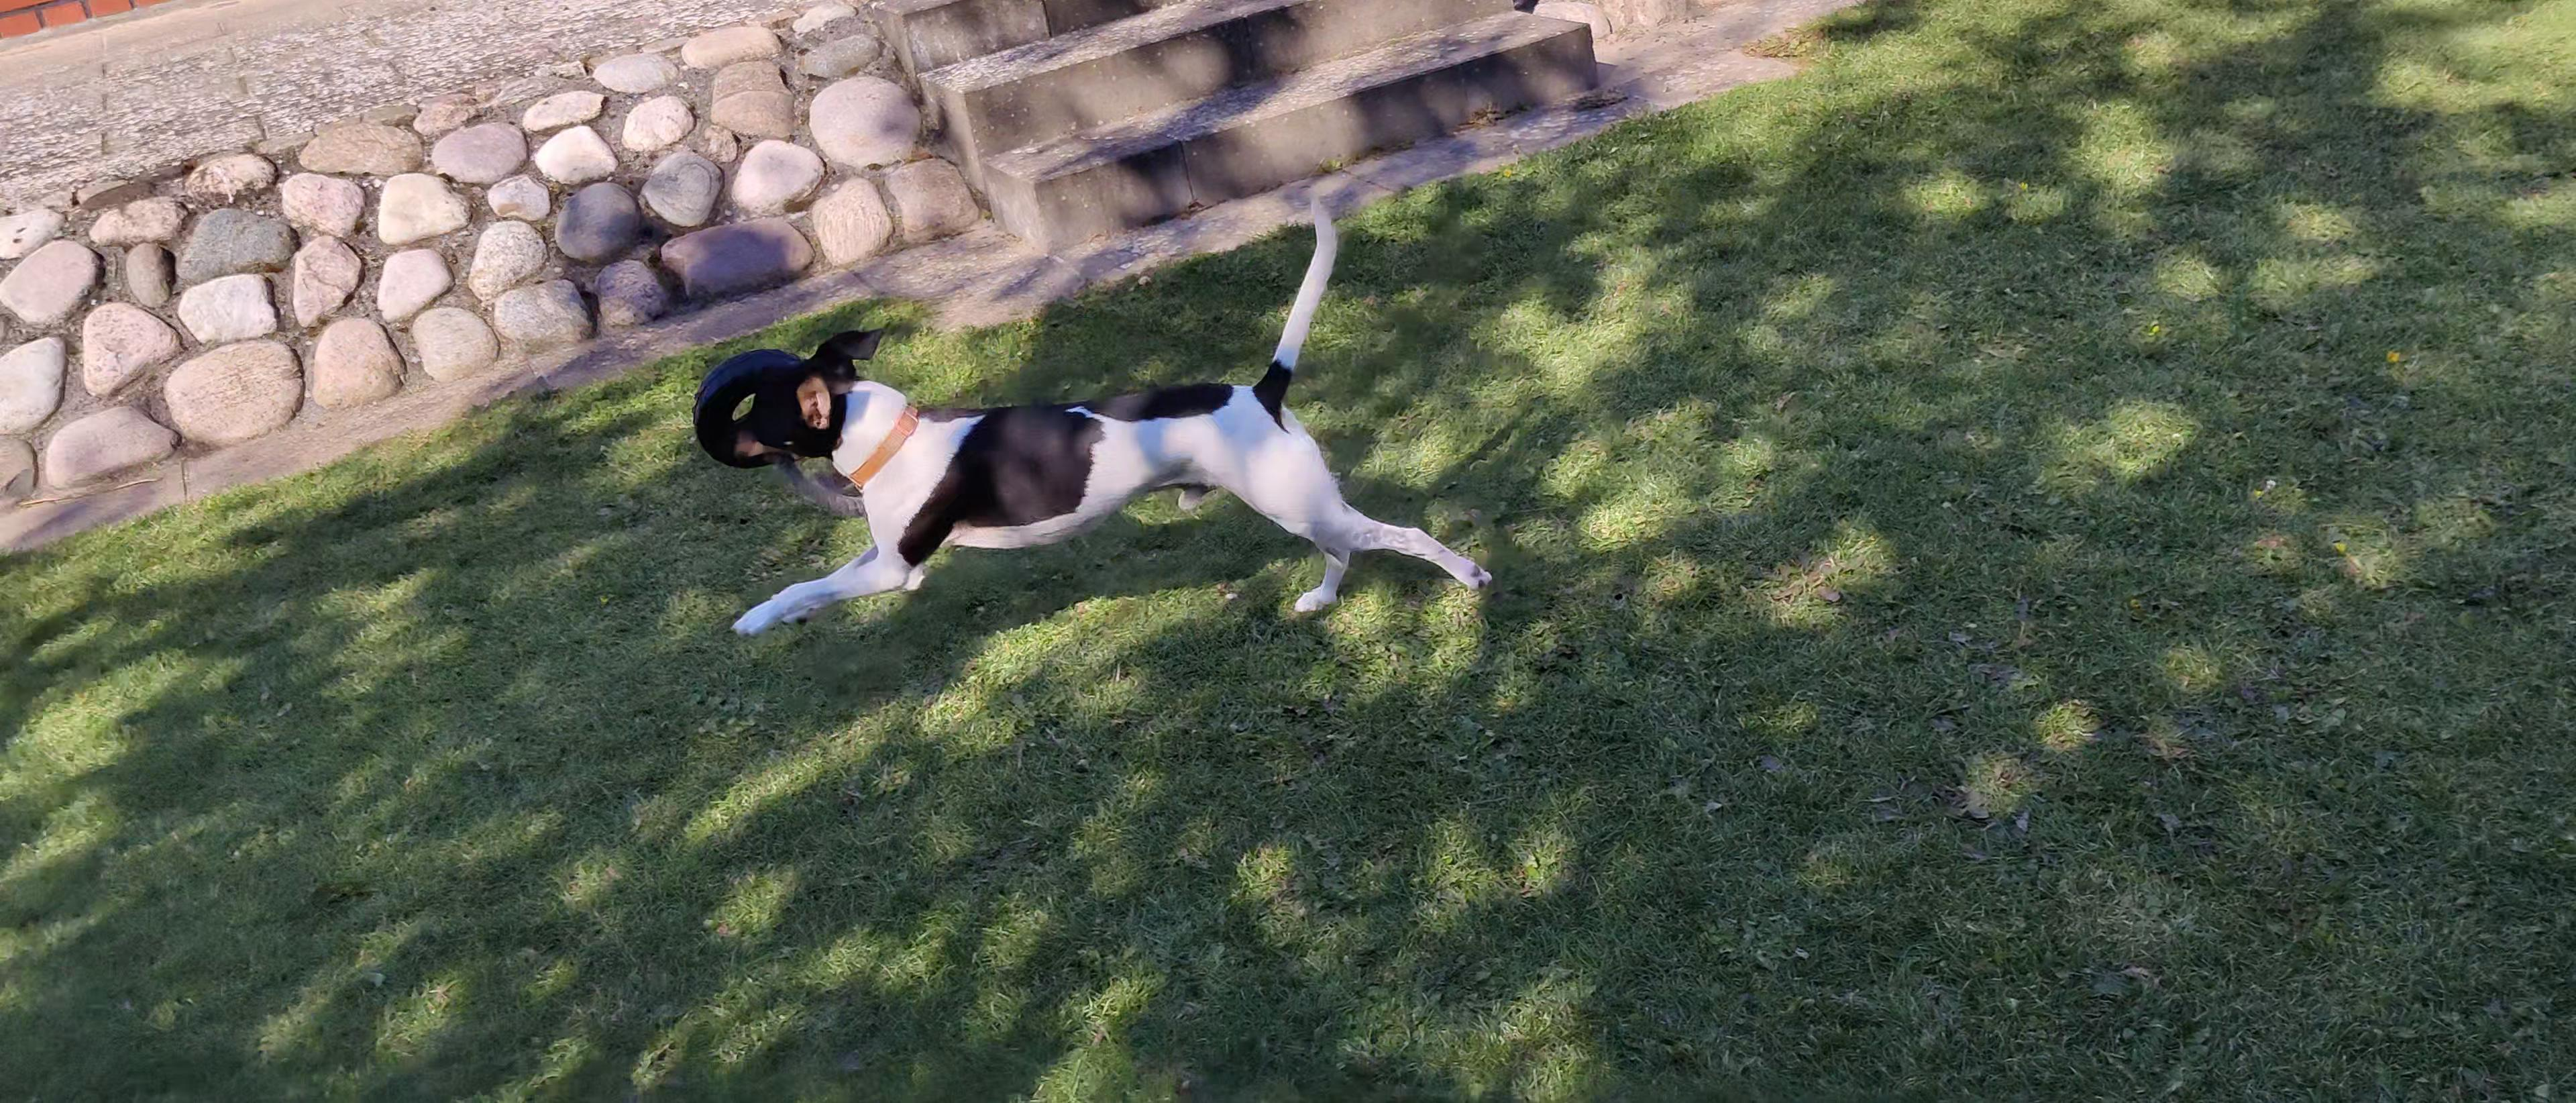Dog: (706, 173, 1500, 653)
